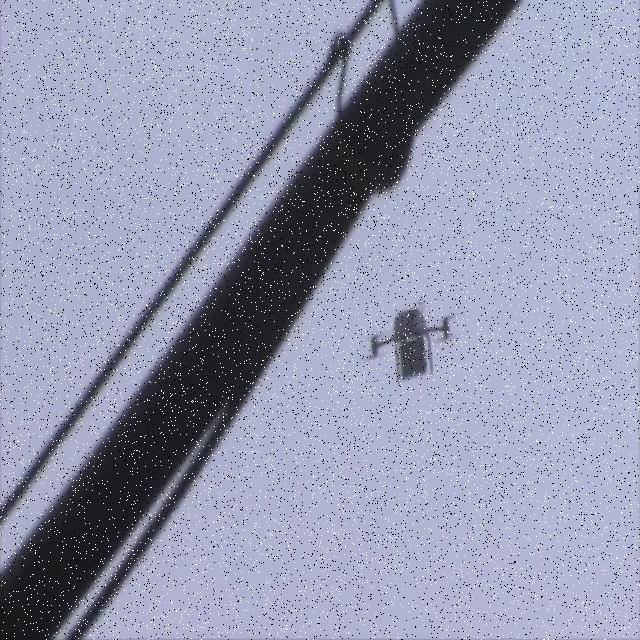UAV: (364, 298, 457, 386)
